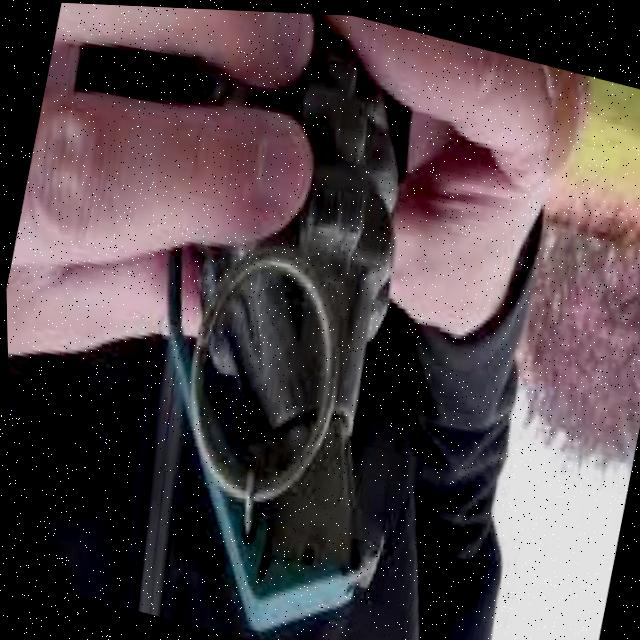grenade: (70, 2, 495, 640)
